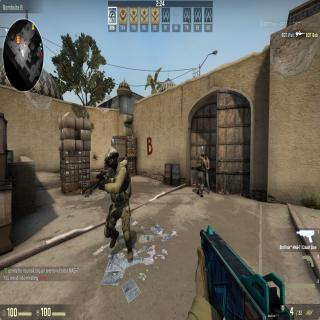CT-Body: (102, 145, 134, 255), (197, 151, 206, 197)
CT-Head: (104, 145, 122, 173), (200, 151, 205, 160)
T-Body: (203, 153, 210, 194)
T-Head: (204, 152, 208, 161)
